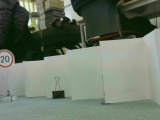speed_20: (1, 48, 15, 69)
